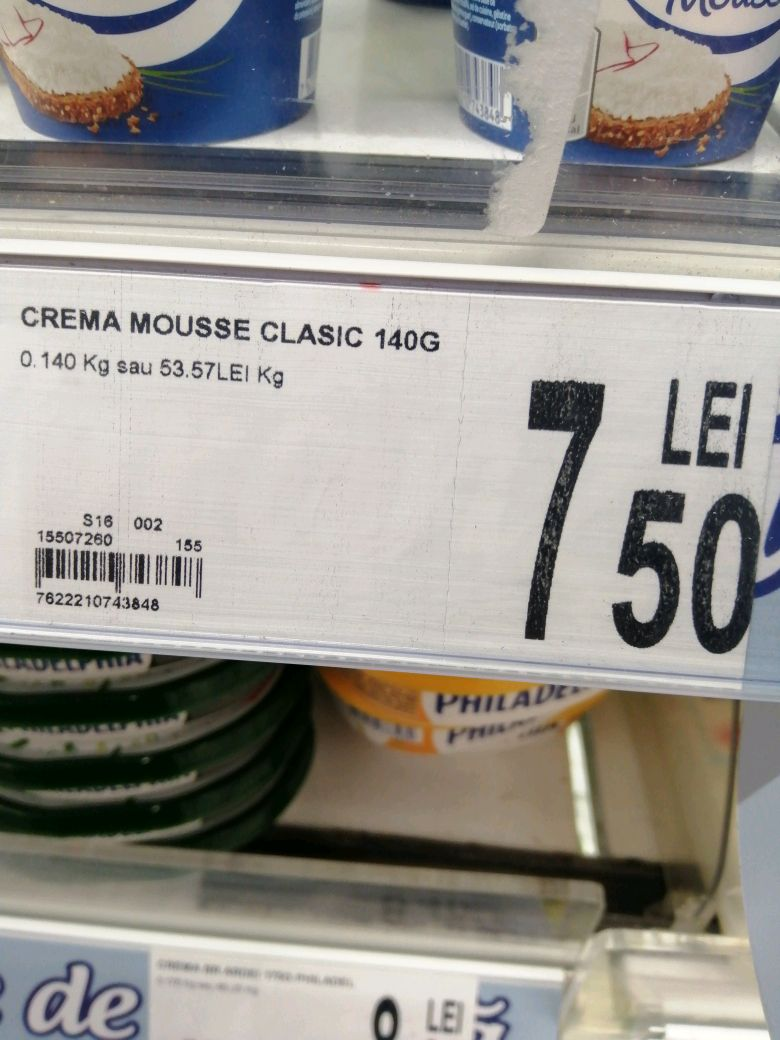price_bani: (602, 483, 773, 659)
price_lei: (472, 378, 616, 652)
price_tag: (2, 261, 775, 710)
product_id: (31, 588, 164, 618)
product_name: (13, 283, 444, 358)
